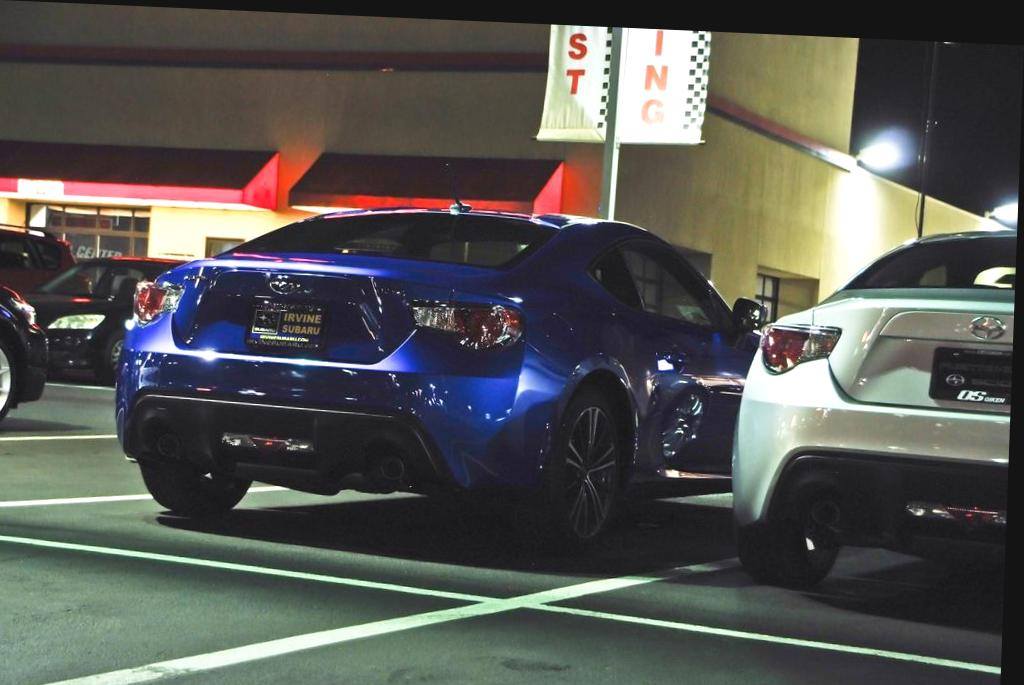License_Plate: (241, 302, 332, 357), (930, 348, 1012, 407)
